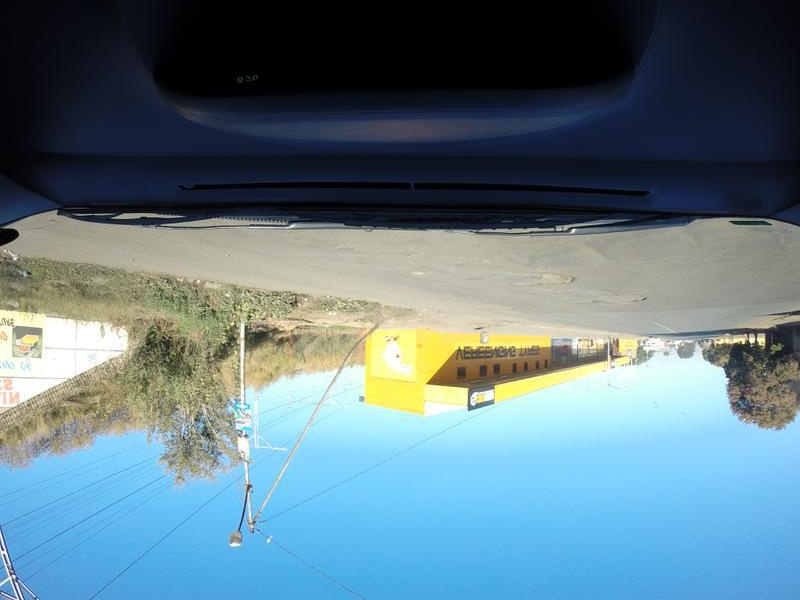pothole: (590, 289, 645, 306), (536, 271, 576, 288)
